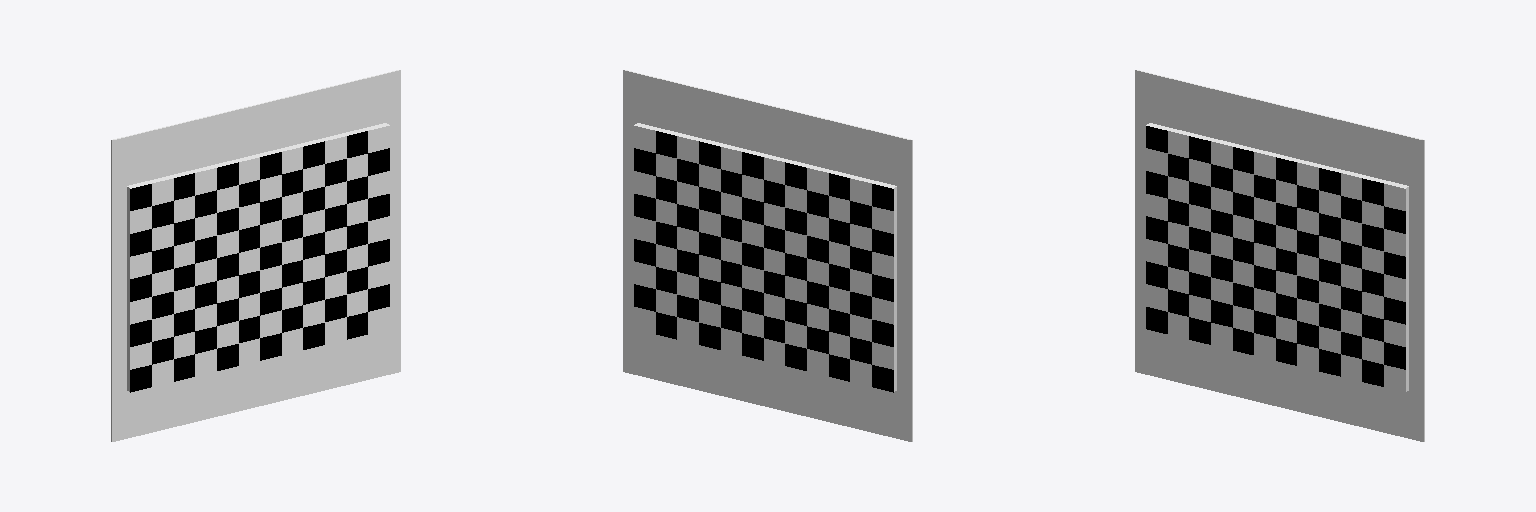
3 renders of one model, left to right at view 1: azimuth 30°, elevation 25°; view 2: azimuth 150°, elevation 25°; view 3: azimuth 330°, elevation 25°, orthographic.
Visible parts, largest first — view 1: Cube.001_Cube.003; view 2: Cube.001_Cube.003; view 3: Cube.001_Cube.003.
Boxes of the visible parts, box(x1,y1,x2,y2) form: Cube.001_Cube.003: box(111, 70, 400, 441); Cube.001_Cube.003: box(623, 70, 912, 441); Cube.001_Cube.003: box(1135, 70, 1424, 441).
Bounding box in the file's own units: 0.2 × 0.2 × 0.01.
Materials: 1 (1 with a texture image).